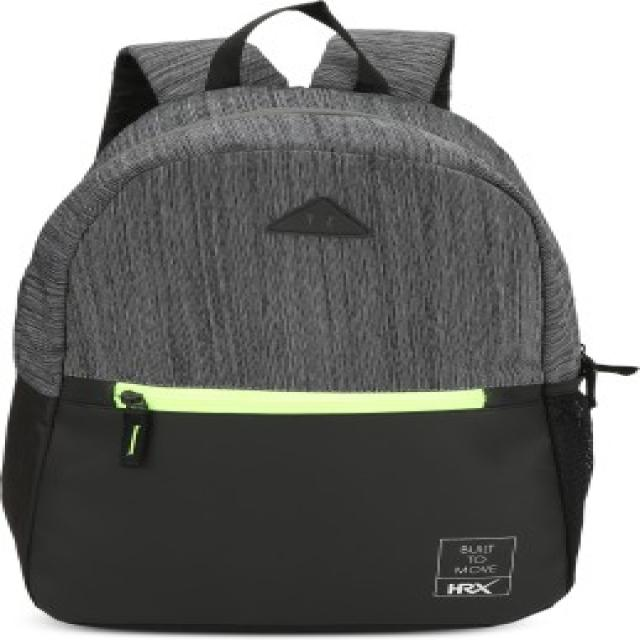backpack: (0, 0, 638, 632)
